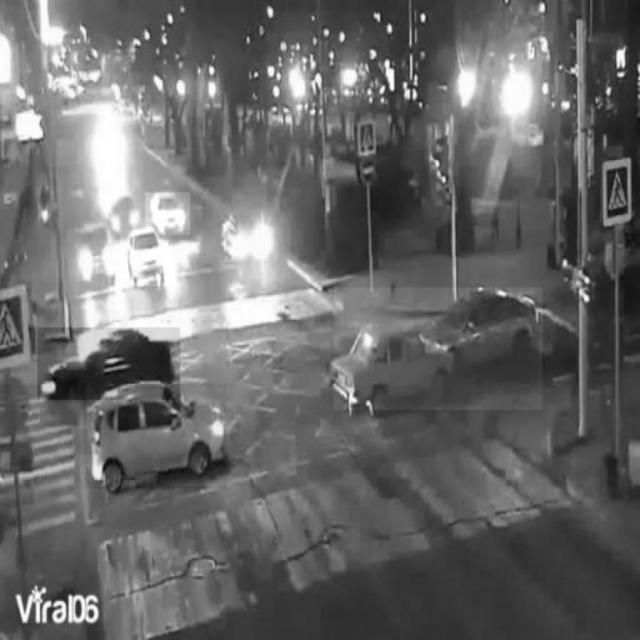accident: (334, 287, 542, 409)
vehicle: (84, 384, 226, 488), (38, 328, 180, 400), (121, 230, 173, 286), (146, 192, 191, 236)
